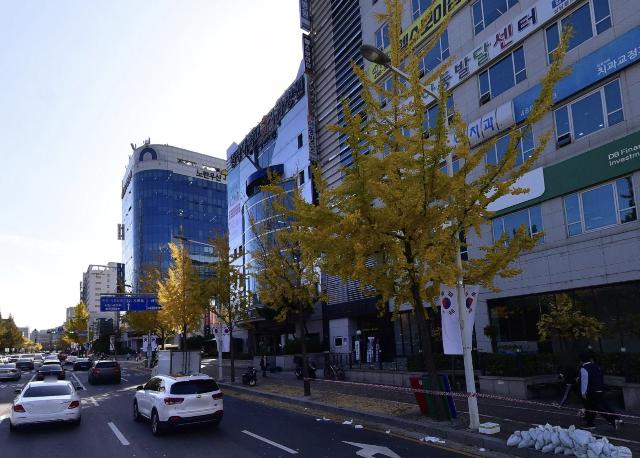ginkgo: (264, 0, 577, 422), (244, 167, 386, 397), (189, 222, 258, 384), (150, 239, 210, 354), (61, 302, 90, 356)
other: (0, 313, 26, 355), (482, 323, 504, 370)
